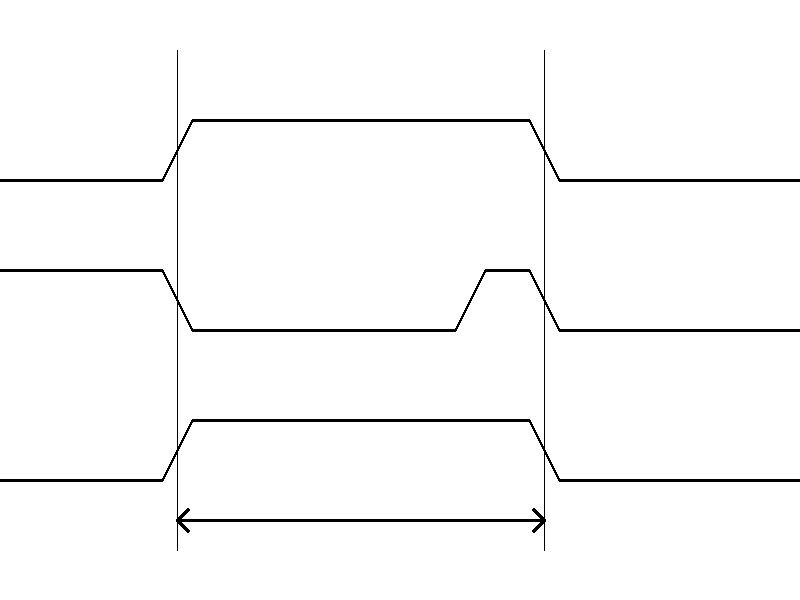double_arrow: (177, 505, 544, 535)
